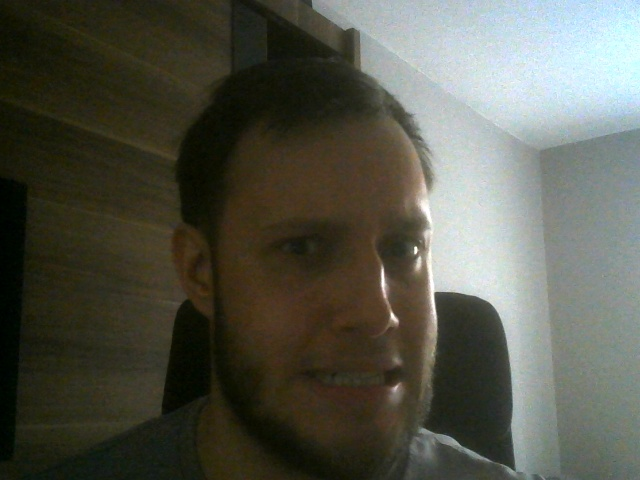angry: (173, 57, 439, 477)
